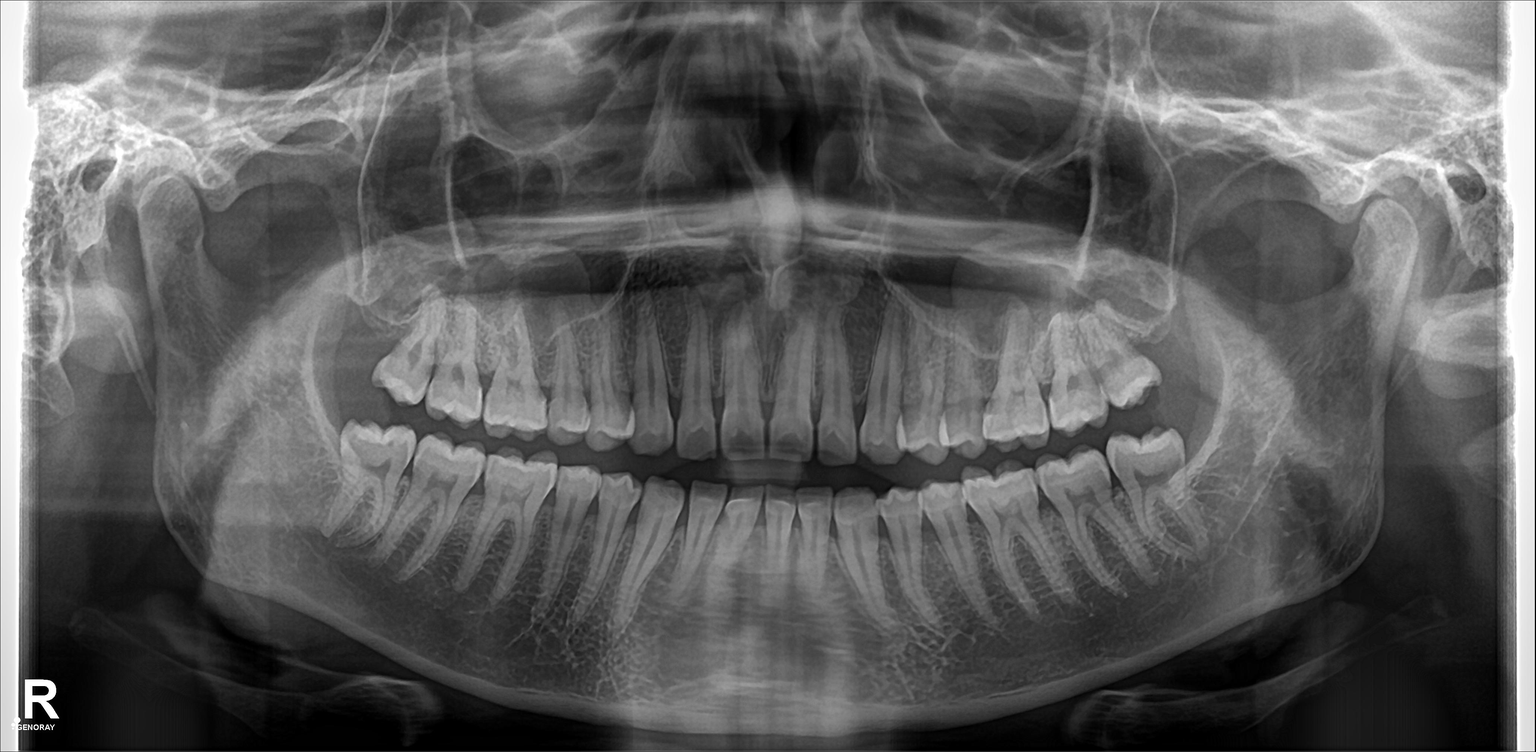Dental Caries: (682, 432, 714, 460)
Missing Tooth: (1140, 285, 1196, 389), (343, 307, 380, 392)
